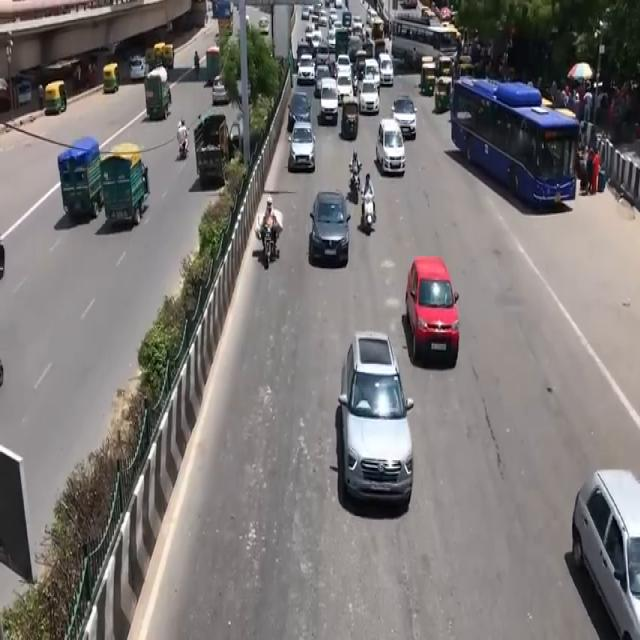BUS: (451, 70, 578, 219)
MOTORCYCLE: (262, 224, 275, 272)
TRUCK: (57, 138, 102, 226)
